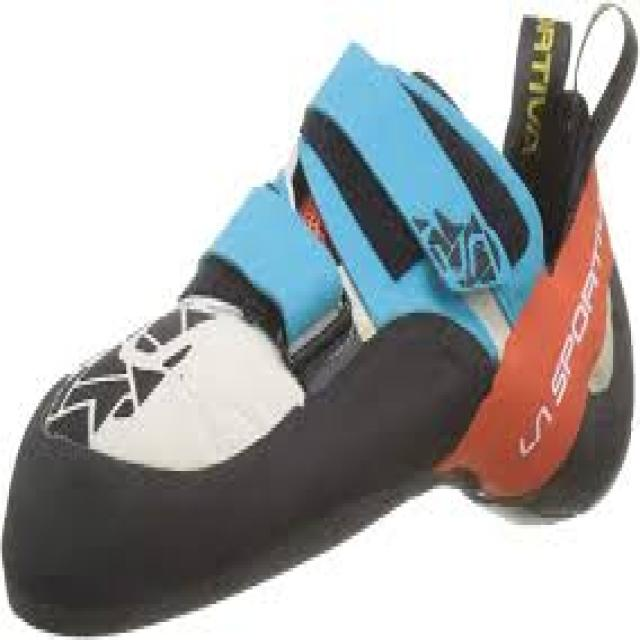climbing-shoes: (2, 2, 638, 636)
